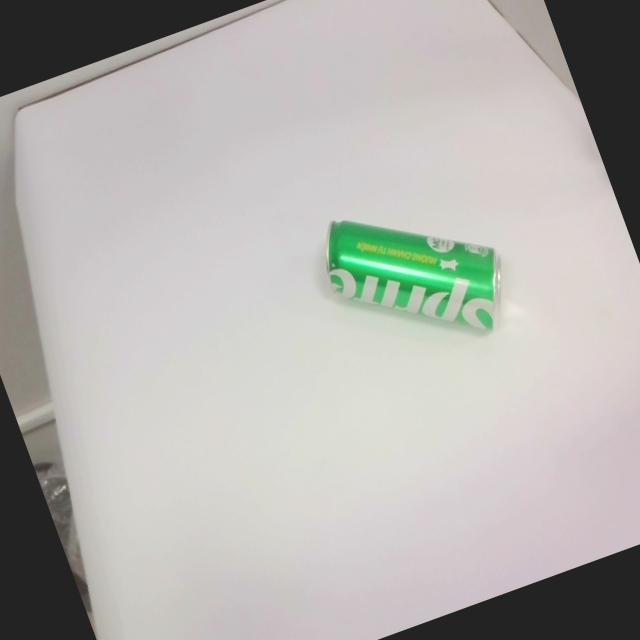debris: (309, 170, 524, 380)
